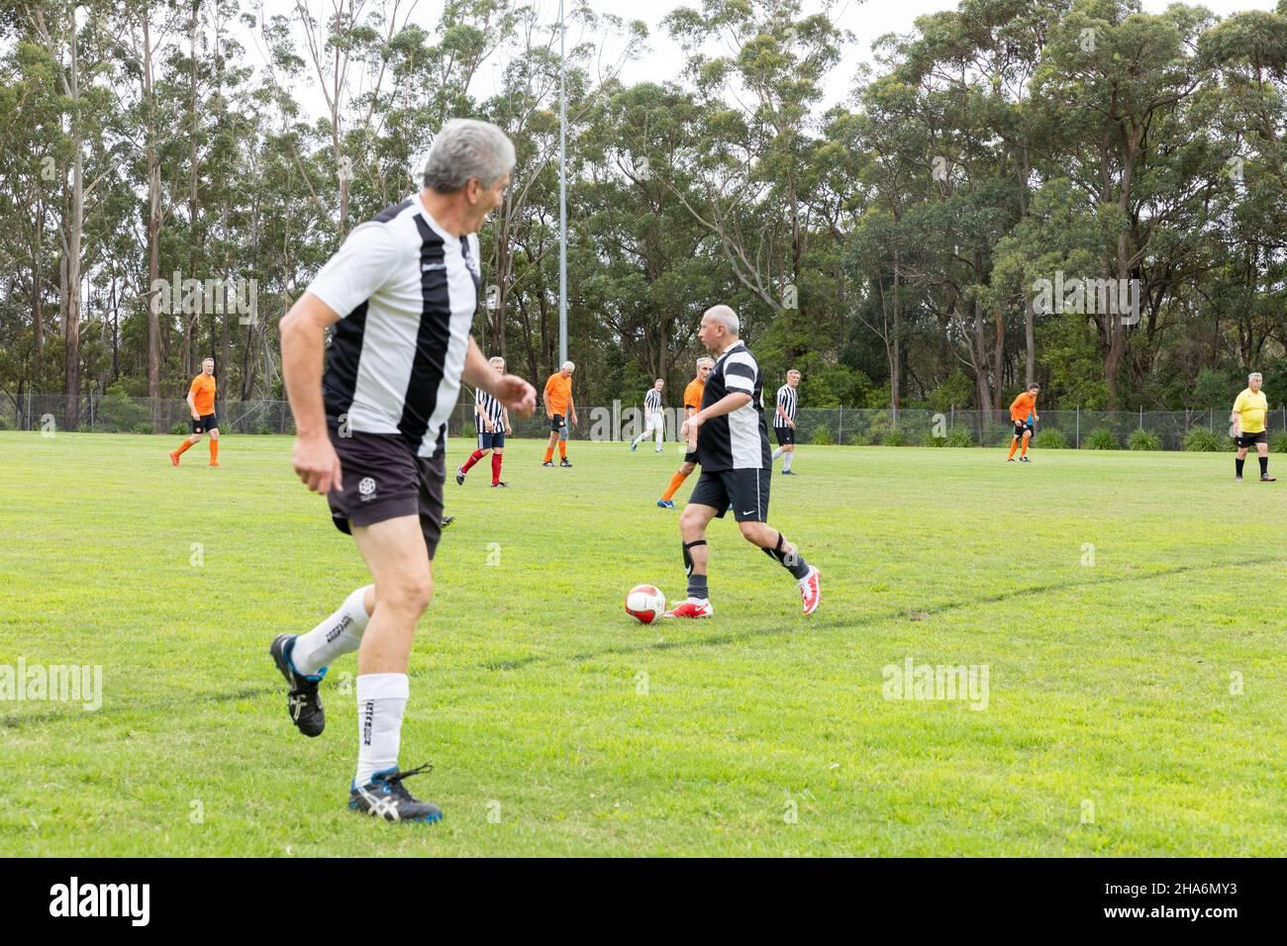ballon_football: (624, 583, 667, 624)
